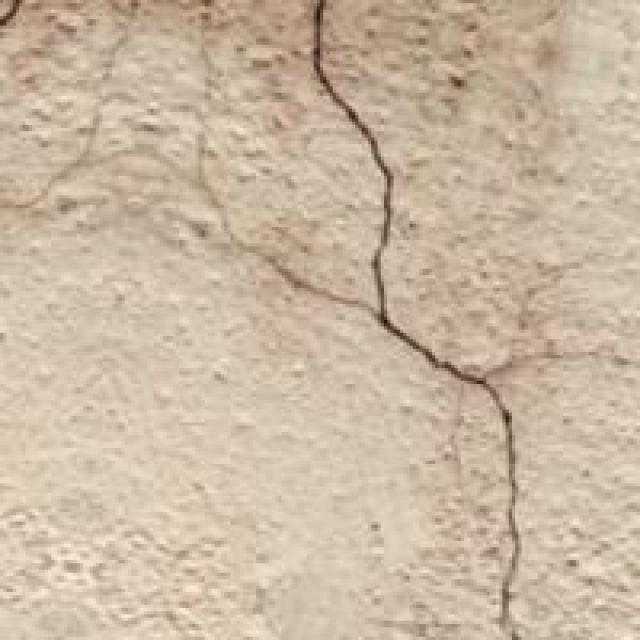Crack: (269, 0, 573, 637)
